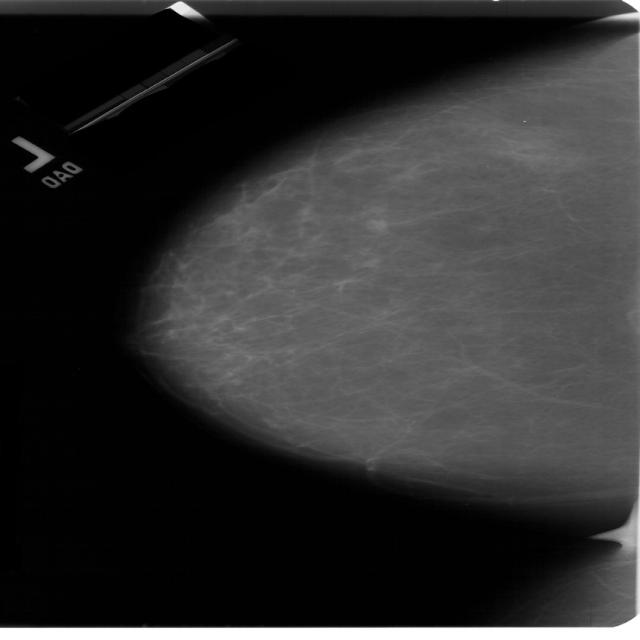tumour: (360, 217, 384, 232)
